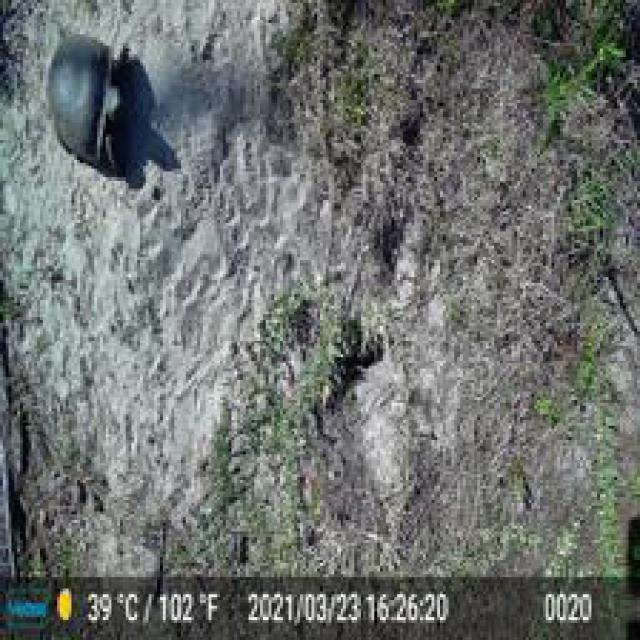tortoise: (43, 32, 131, 172)
